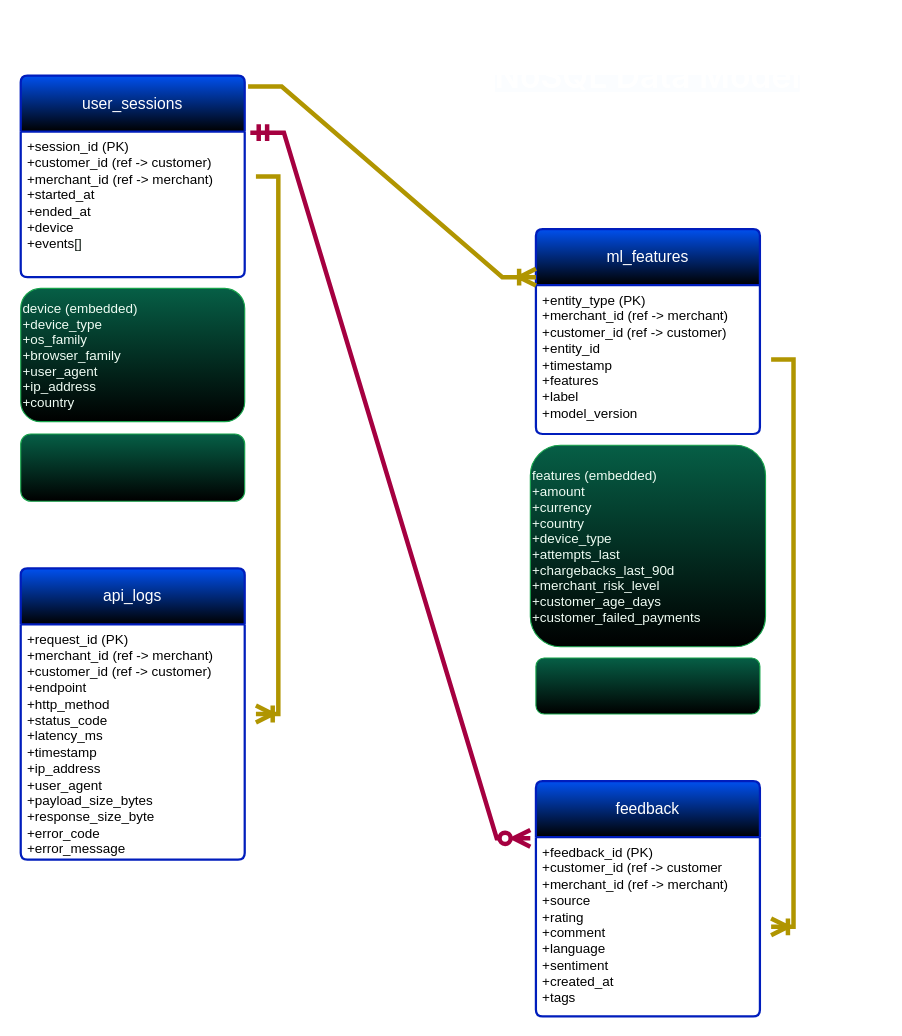
This 902x1036 diagram has some shape labels left out. Here are the shapes that lost their labels. From the top down, the centre of each, then its label:
At (132,467): "events[] (embedded) (event_type, timestamp, payment_id + optional fields)".
At (647,685): "label (embedded) +is_fraud +known_after_days".
